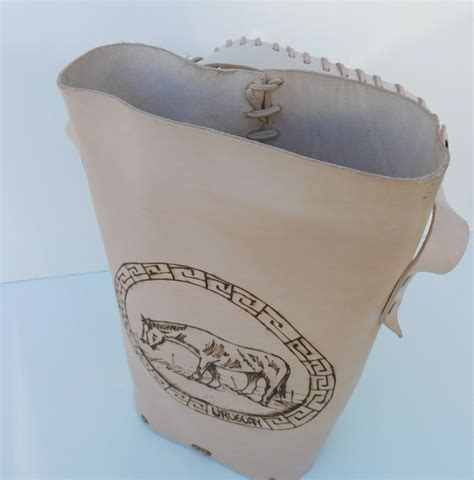cuero: (58, 41, 474, 480)
